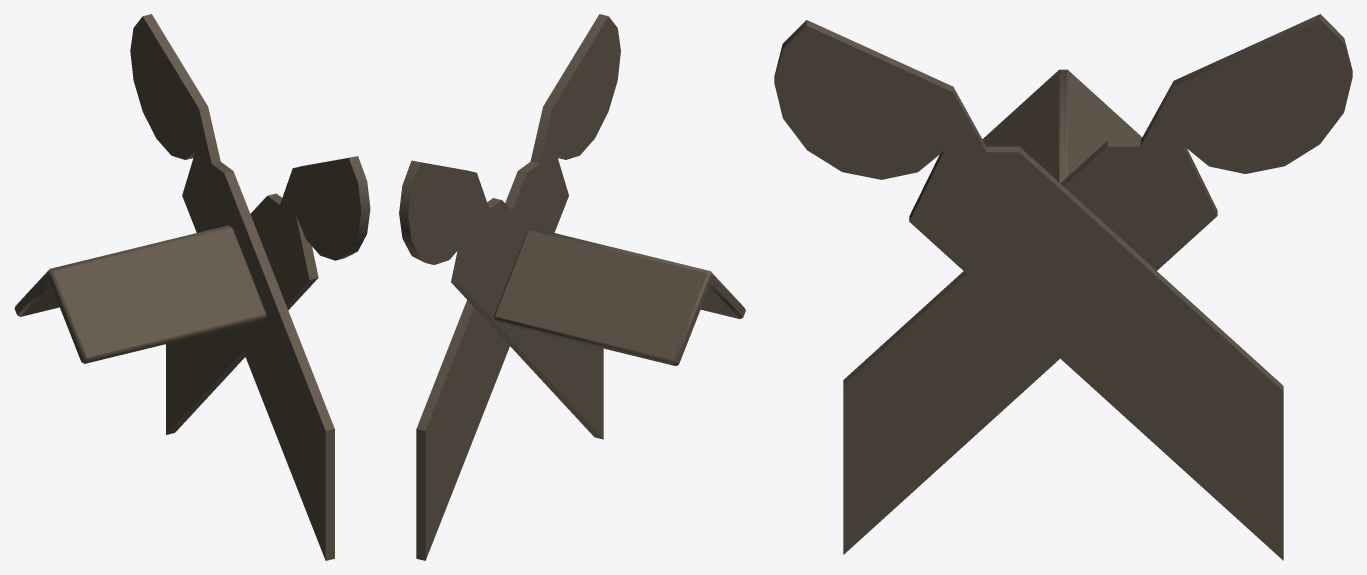
Rendered from dach_zier_r.glb.
The picture shows the model from 3 angles, left to right: view 1: azimuth 30°, elevation 25°; view 2: azimuth 150°, elevation 25°; view 3: azimuth 270°, elevation 25°; orthographic projection. The views are drawn at different scales.
Parts seen in each view (by area): view 1: dach_zier_r; view 2: dach_zier_r; view 3: dach_zier_r.
Boxes of the visible parts, x1=… form: dach_zier_r: x1=14, y1=14, x2=370, y2=560; dach_zier_r: x1=399, y1=14, x2=745, y2=560; dach_zier_r: x1=774, y1=14, x2=1352, y2=560.
Size of the model in its own units: 0.575 by 1.07 by 1.05.
